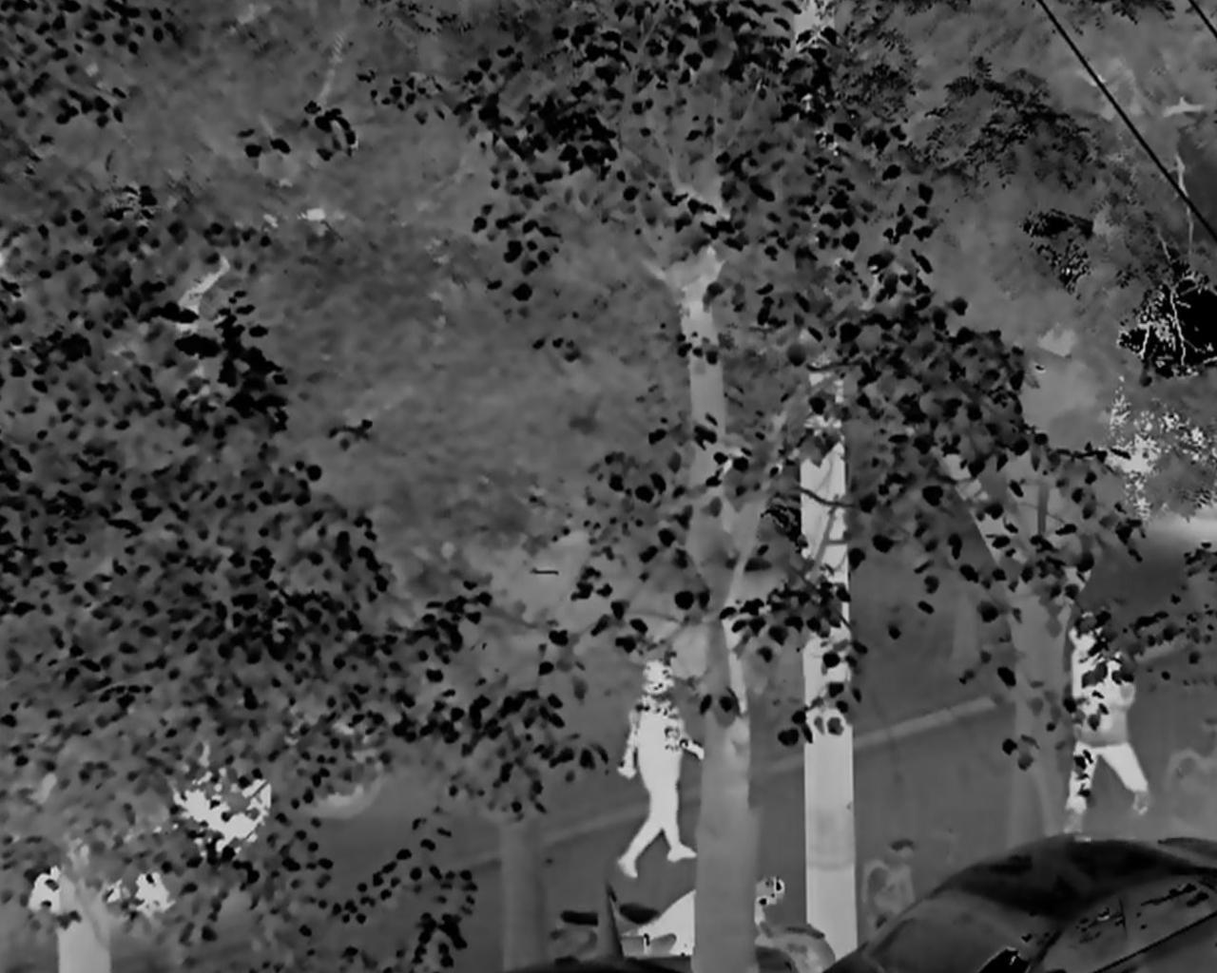person: (1060, 609, 1153, 831), (615, 659, 705, 880)
